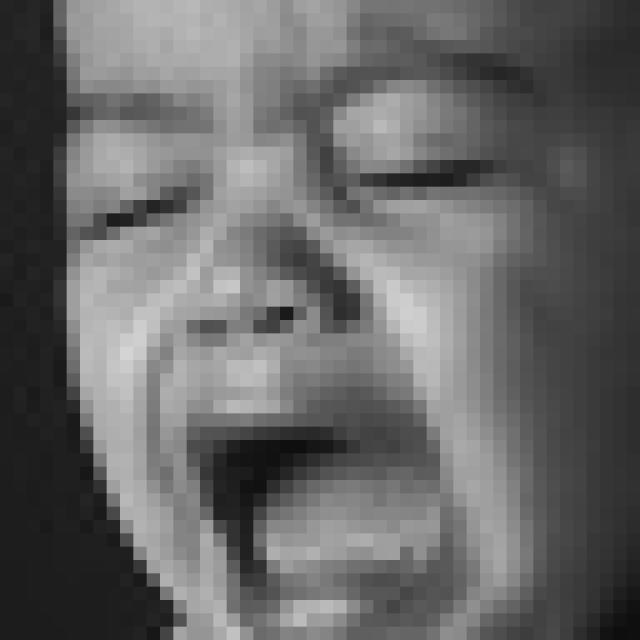sad: (76, 35, 548, 633)
